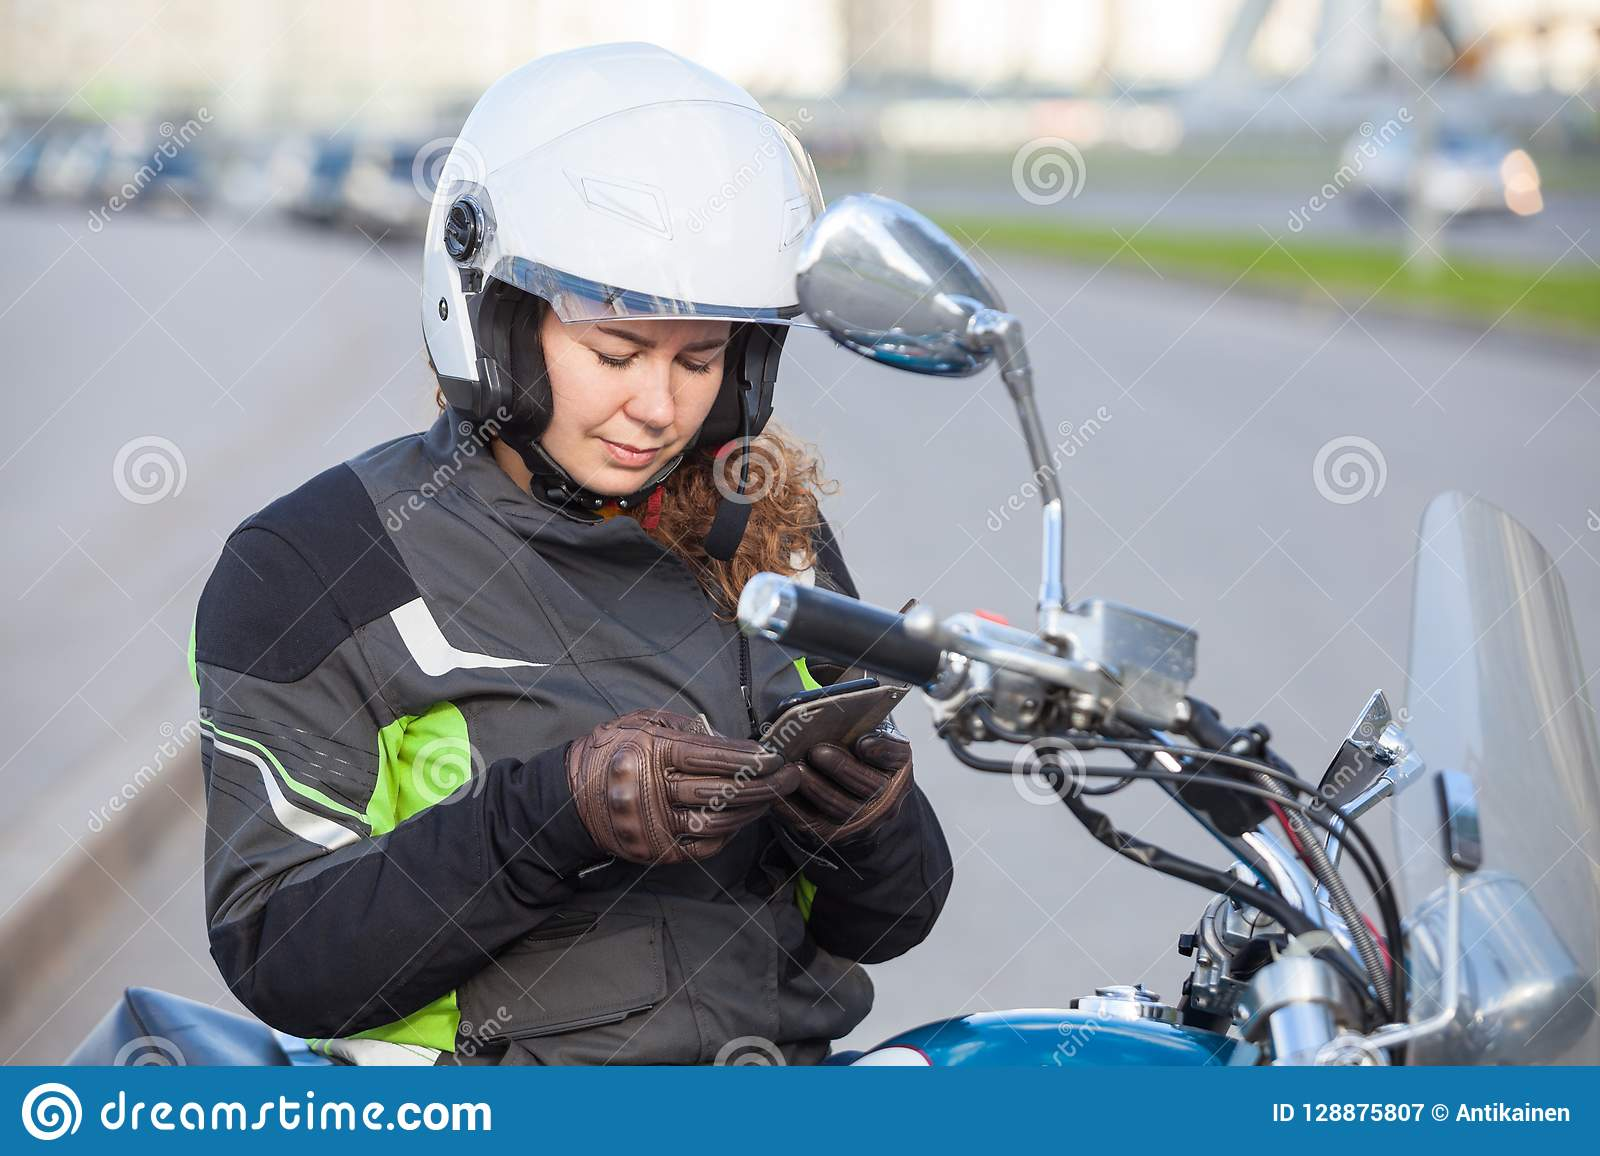helmet: (424, 41, 846, 453)
